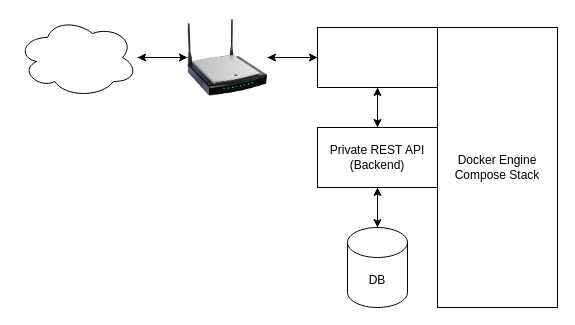
This 575x325 diagram has some shape labels left out. Here are the shapes that lost their labels. From the top down, the centre of each, then its label:
[77,57]: WWW
[377,57]: Public React Server (Frontend)
